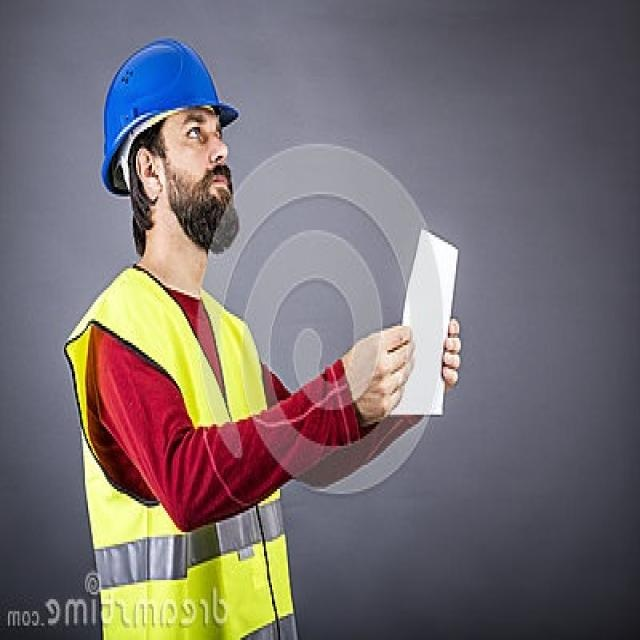Con_Casco: (101, 36, 240, 251)
Con_Chaleco: (68, 284, 290, 636)
